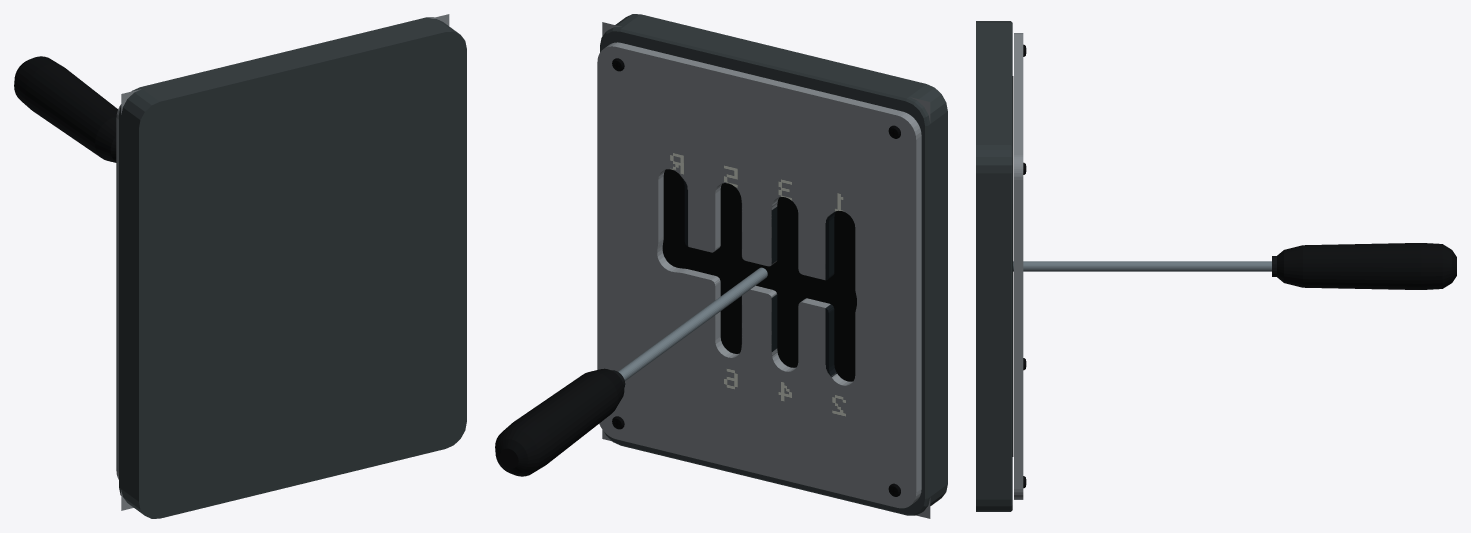
The model's file is MFDStudio.obj.
3 views of the same model, side by side, from view 1: azimuth 30°, elevation 25°; view 2: azimuth 150°, elevation 25°; view 3: azimuth 270°, elevation 25° (orthographic). The views are drawn at different scales.
Visible parts, largest first — view 1: MFDStudioBody, MFDStudioShifterLever, MFDStudioGatePlate; view 2: MFDStudioGatePlate, MFDStudioBody, MFDStudioBaseWell, MFDStudioShifterLever, MFDStudioScrews; view 3: MFDStudioBody, MFDStudioShifterLever, MFDStudioGatePlate, MFDStudioBaseWell.
Part boxes in pixels (x1,y1,x2,y2): MFDStudioBody: (119,17,466,518); MFDStudioShifterLever: (14,56,117,162); MFDStudioGatePlate: (116,104,120,479); MFDStudioGatePlate: (597,42,921,508); MFDStudioBody: (600,14,947,515); MFDStudioBaseWell: (662,169,856,381); MFDStudioShifterLever: (495,267,767,476); MFDStudioScrews: (612,58,900,496); MFDStudioBody: (976,21,1012,511); MFDStudioShifterLever: (1013,243,1456,289); MFDStudioGatePlate: (1014,33,1023,499); MFDStudioBaseWell: (1012,76,1013,456).
Bounding box in the file's own units: 0.14 × 0.17 × 0.203.
Materials: 9 (2 with a texture image).
